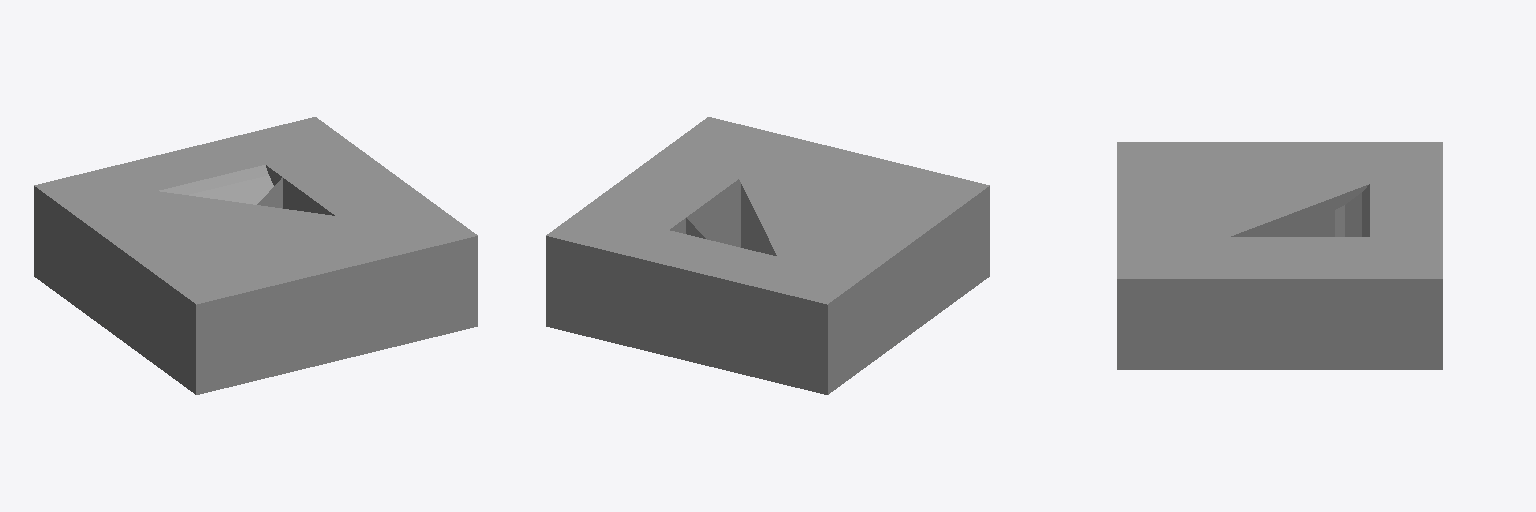
File: vertical_fat.obj
3 views of the same model, side by side, from view 1: azimuth 30°, elevation 25°; view 2: azimuth 150°, elevation 25°; view 3: azimuth 270°, elevation 25° (orthographic).
Parts seen in each view (by area): view 1: Cube; view 2: Cube; view 3: Cube.
Boxes of the visible parts, <box> form: Cube: <box>34,117,477,394</box>; Cube: <box>546,117,989,394</box>; Cube: <box>1117,142,1442,369</box>.
Bounding box in the file's own units: 13 × 4 × 13.